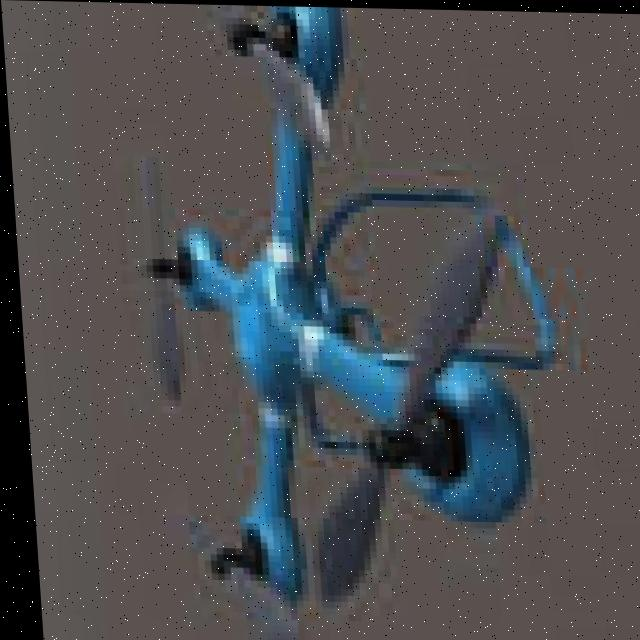drone: (96, 2, 594, 640)
